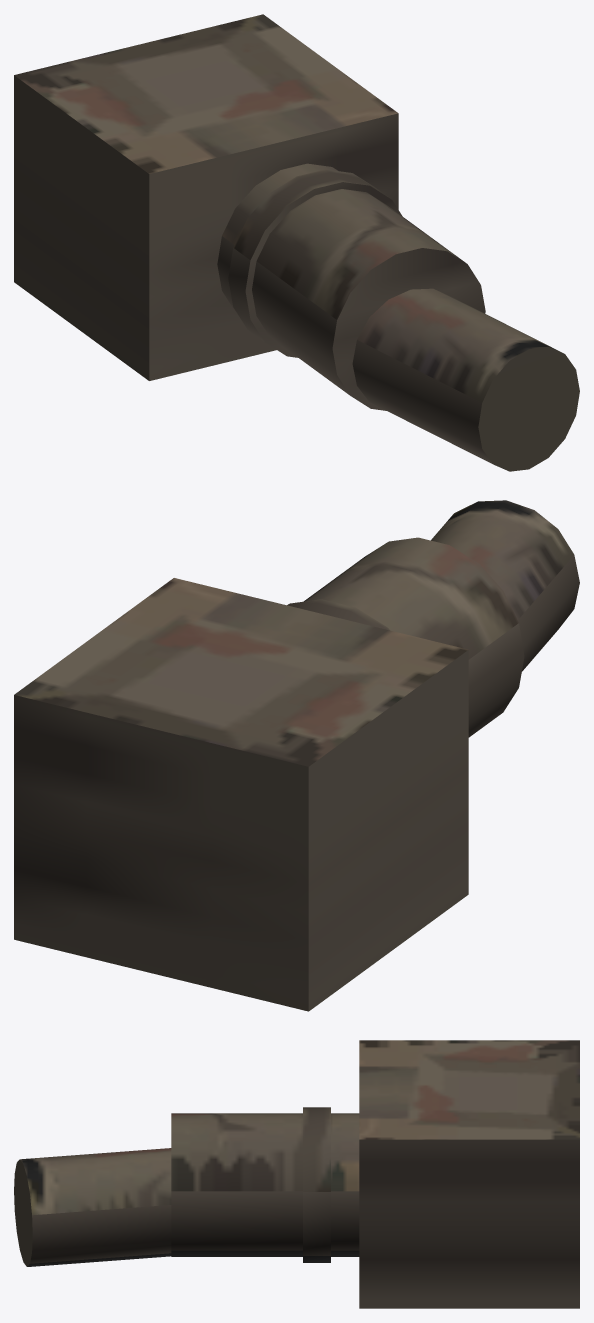
File: Building_AncientMegaCannonBarrel.obj
3 renders of one model, top to bottom at view 1: azimuth 30°, elevation 25°; view 2: azimuth 150°, elevation 25°; view 3: azimuth 270°, elevation 25°, orthographic. The views are drawn at different scales.
Parts seen in each view (by area): view 1: Body; view 2: Body; view 3: Body.
Boxes of the visible parts, <box> form: Body: <box>14,14,579,471</box>; Body: <box>14,500,579,1011</box>; Body: <box>14,1040,579,1308</box>.
Bounding box in the file's own units: 0.7812 × 0.62 × 1.88.
1 material, 1 textured.
